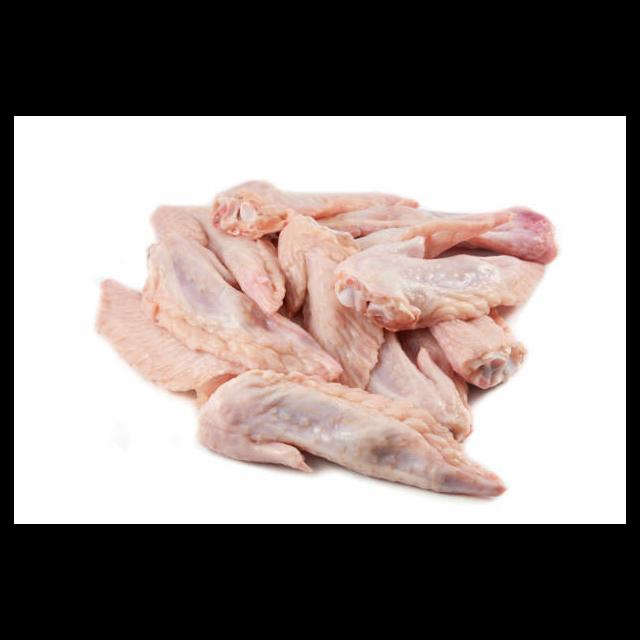chicken: (93, 178, 561, 499)
